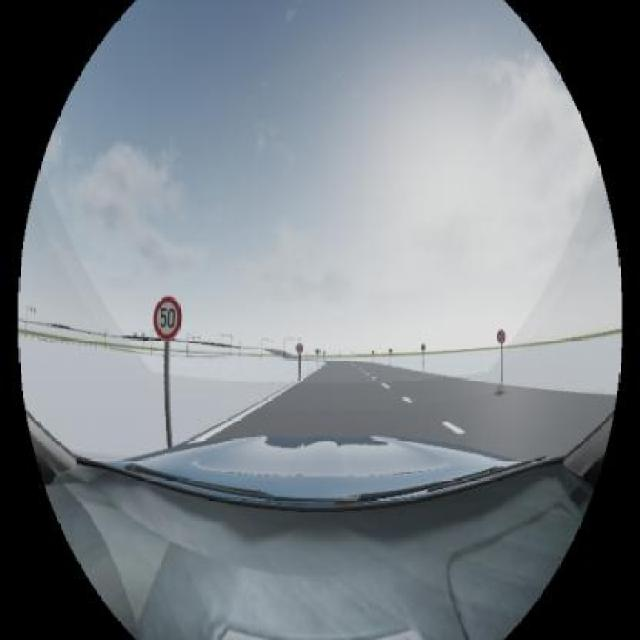forb_speed_over_50: (154, 296, 181, 336)
